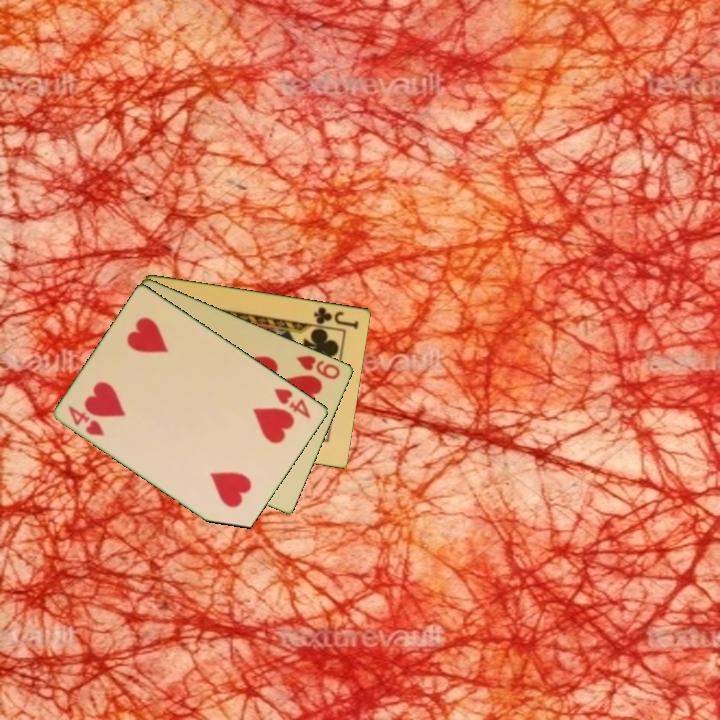4h: (271, 384, 314, 422), (64, 402, 108, 439)
9h: (293, 351, 343, 382)
Jc: (310, 303, 362, 332)
